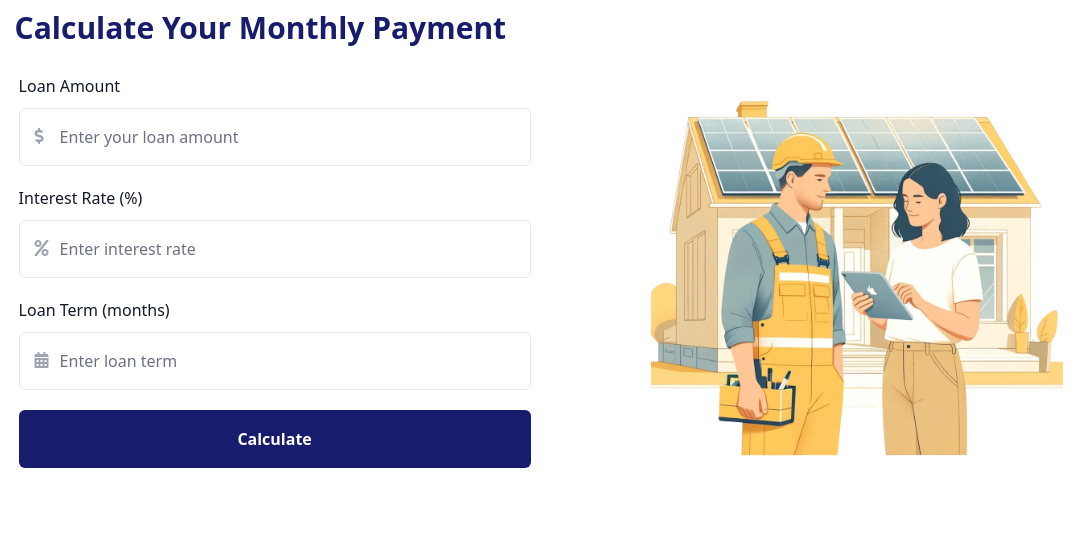
Test: Should show validation errors for empty fields
Click the button "Calculate" at x=275, y=439, box [19,410,531,468]
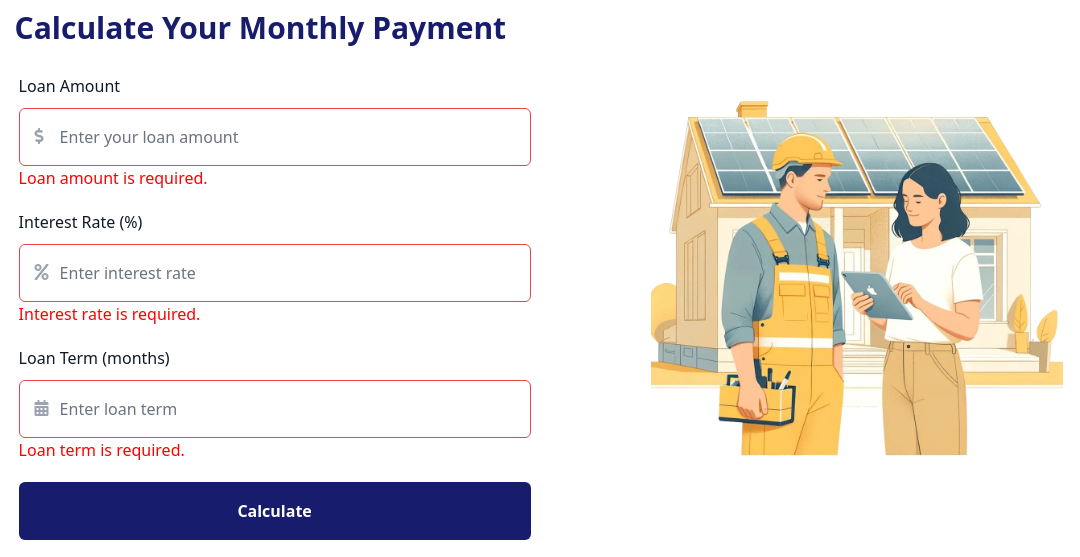
Now the text "Loan amount is required." is shown, box [19,167,208,189]
Now the text "Interest rate is required." is shown, box [19,303,200,325]
Now the text "Loan term is required." is shown, box [19,439,185,461]
